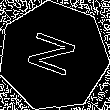N_E: (23, 29, 84, 84)
